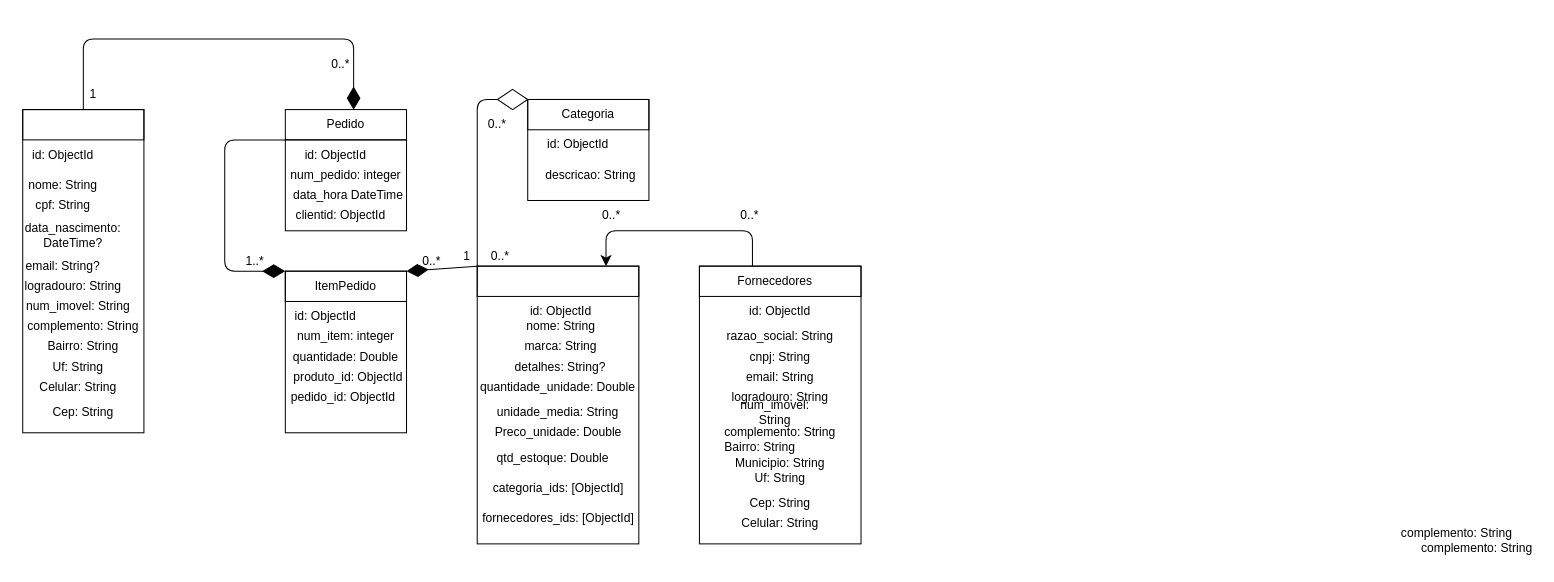
The diagram is 1554 pixels wide and 582 high, and some of its shapes have lost their labels. The centre of each missing label's shape, as x and y in pixels:
"Cliente" belongs at pixel 83 124.
"Produtos" belongs at pixel 557 280.
